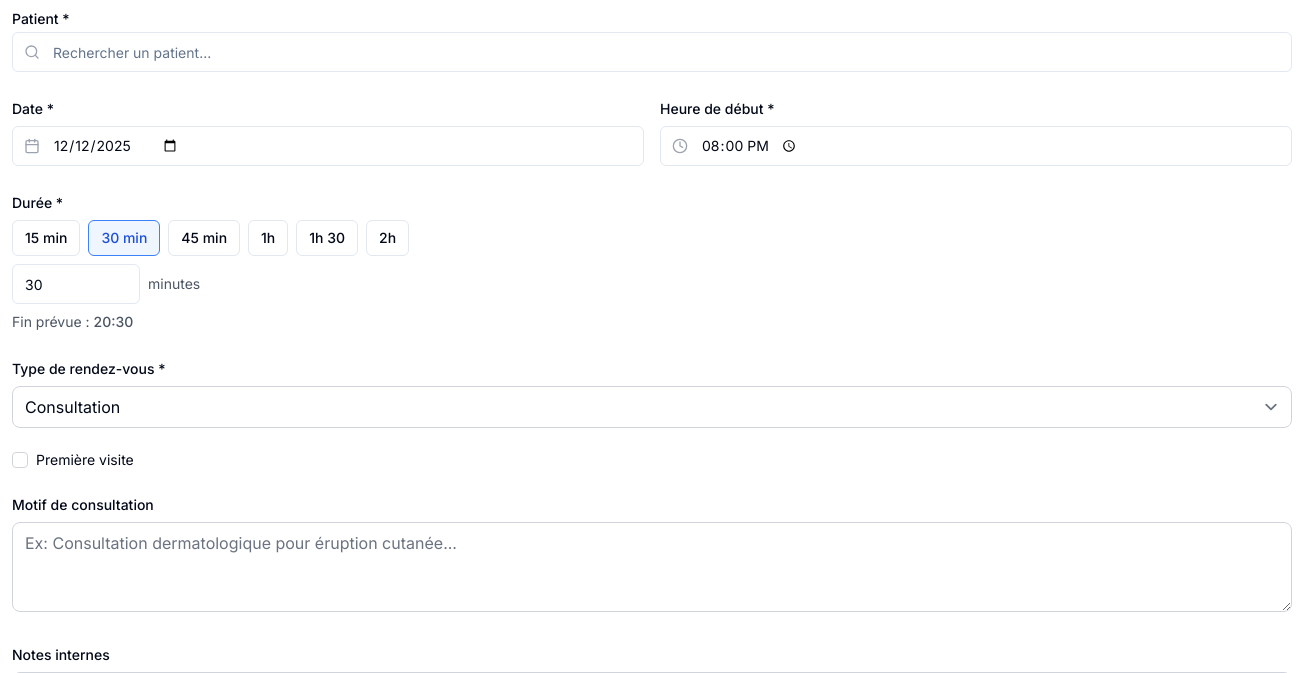
Test: AppointmentForm › should update duration when clicking preset buttons
Check: the number field holds "30", box [12,264,140,304]
Note: Click on 1h preset
Click the button "1h". click: (268, 238)
box: [248,220,288,256]
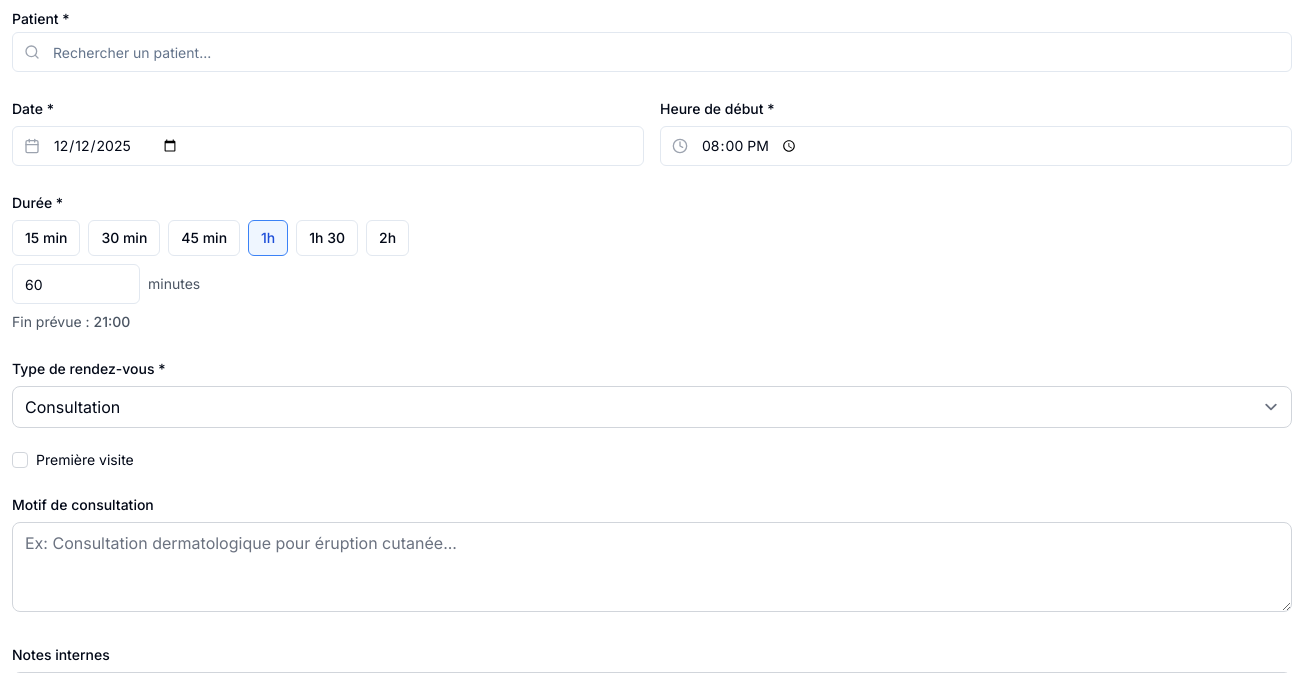
Check: the number field holds "60", box [12,264,140,304]
Note: Click on 45 min preset
Click the button "45 min". click: (204, 238)
box: [168,220,240,256]
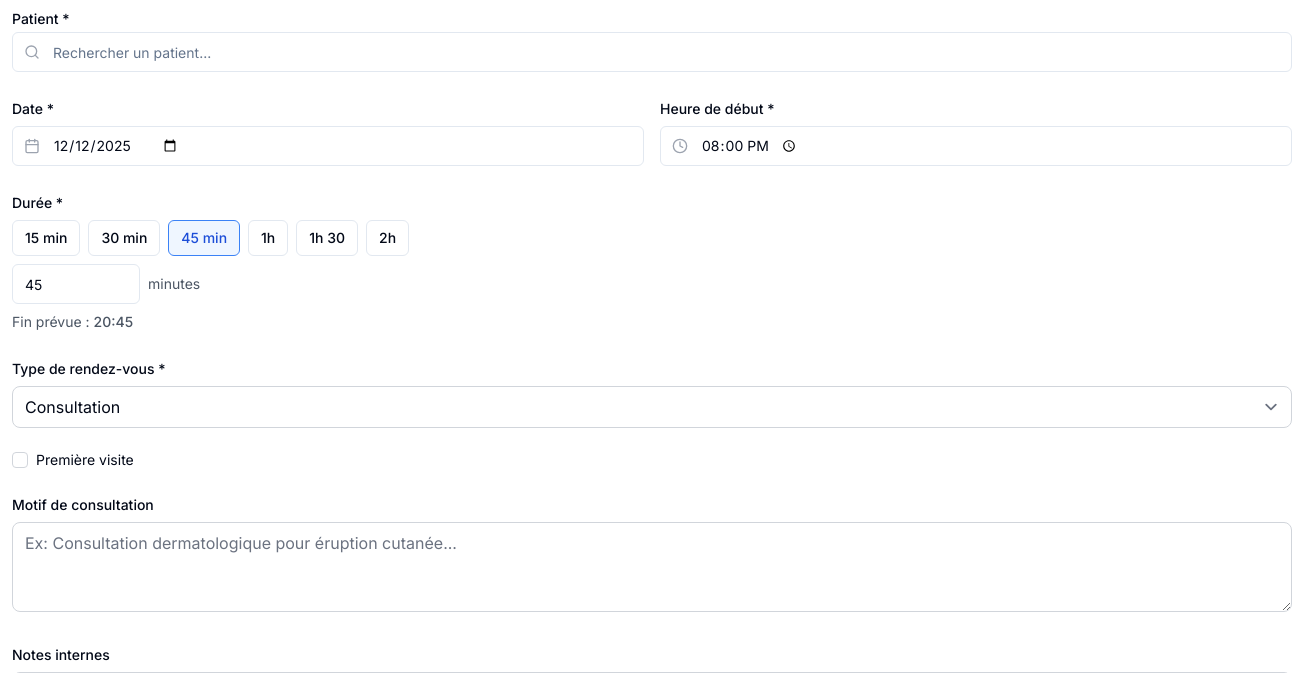
Check: the number field holds "45", box [12,264,140,304]
